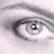eye: (27, 22, 43, 35)
